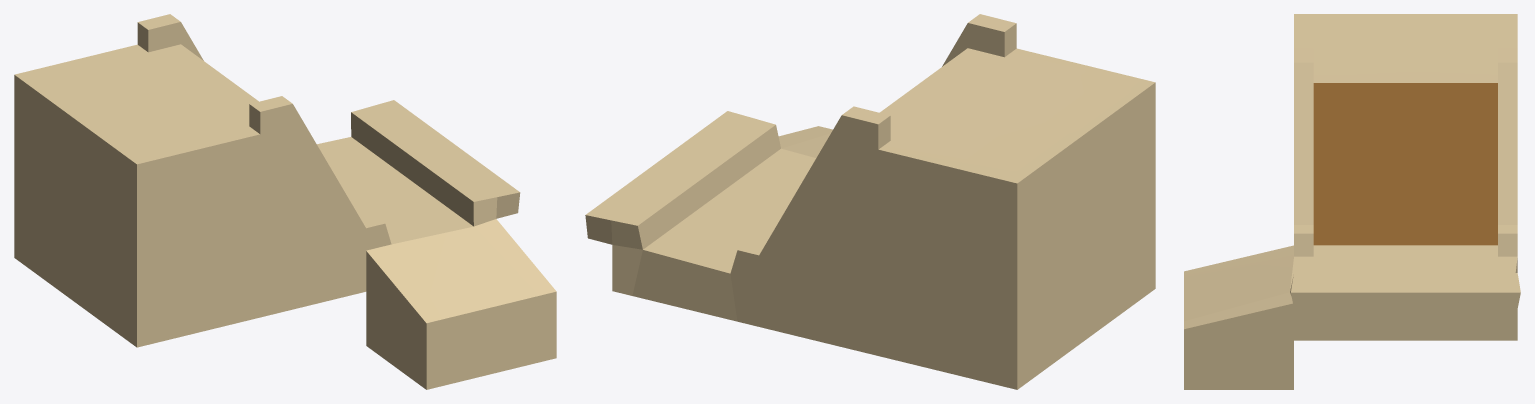
File: Stone_Stair.fbx
The picture shows the model from 3 angles, left to right: view 1: azimuth 30°, elevation 25°; view 2: azimuth 150°, elevation 25°; view 3: azimuth 270°, elevation 25°; orthographic projection. The views are drawn at different scales.
Visible parts, largest first — view 1: Cube.067; view 2: Cube.067; view 3: Cube.067.
Boxes of the visible parts, box(x1,y1,x2,y2) form: Cube.067: box(14, 14, 556, 389); Cube.067: box(585, 14, 1155, 389); Cube.067: box(1184, 14, 1520, 389).
Size of the model in its own units: 36.31 by 23.63 by 30.46.
